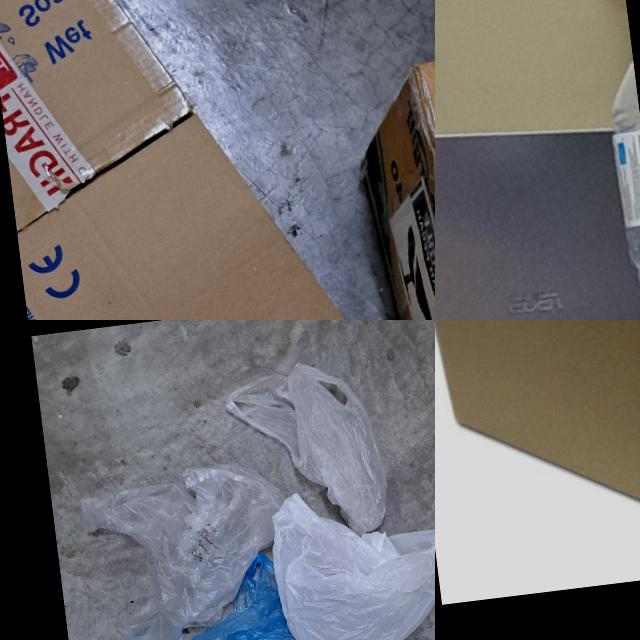garrafa plástica: (435, 320, 640, 598), (600, 30, 640, 320)
papelão: (0, 0, 382, 320), (348, 48, 435, 320)
sacola plástica: (80, 455, 299, 640), (220, 352, 392, 548), (263, 467, 435, 640), (90, 544, 342, 640)
